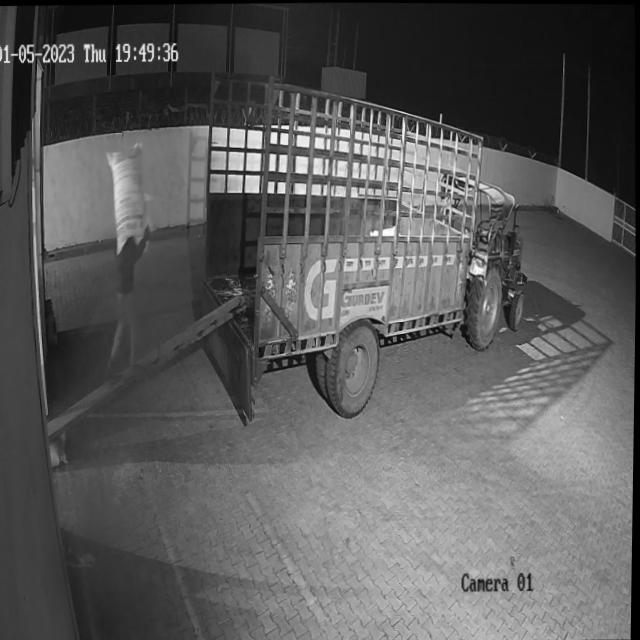sack: (104, 144, 148, 253)
